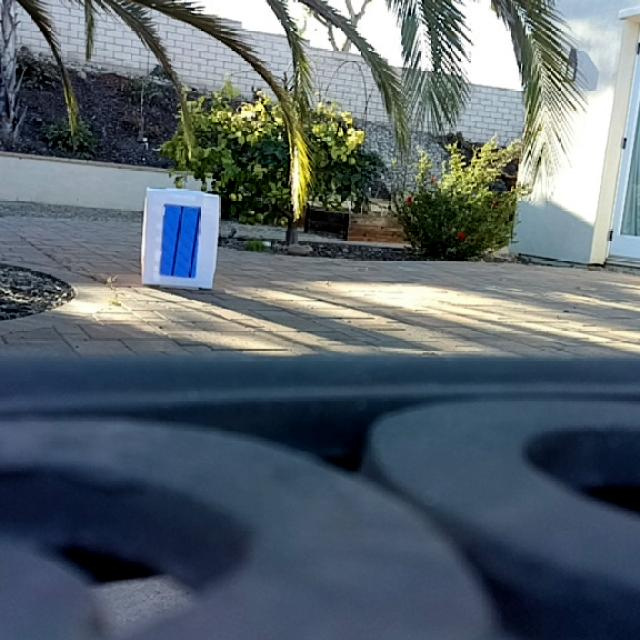led: (159, 200, 202, 278)
